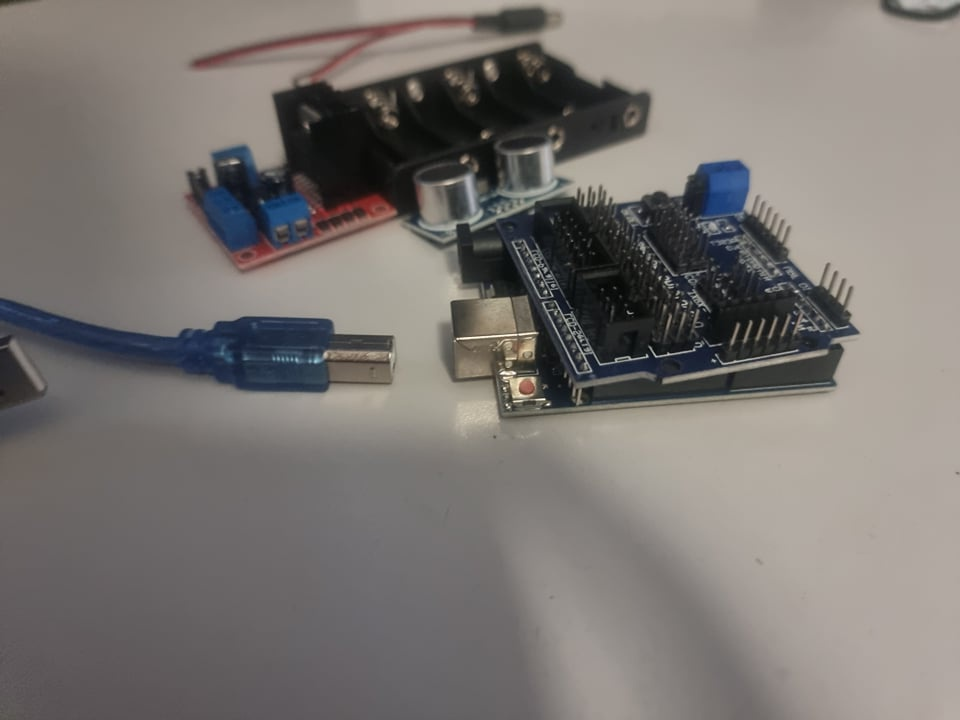5V EXPANSION: (557, 144, 859, 374)
BATTERY BOX: (383, 38, 648, 199)
MOTOR: (184, 74, 382, 273)
SENSOR: (412, 132, 574, 242)
UNO R3: (433, 222, 547, 427)
